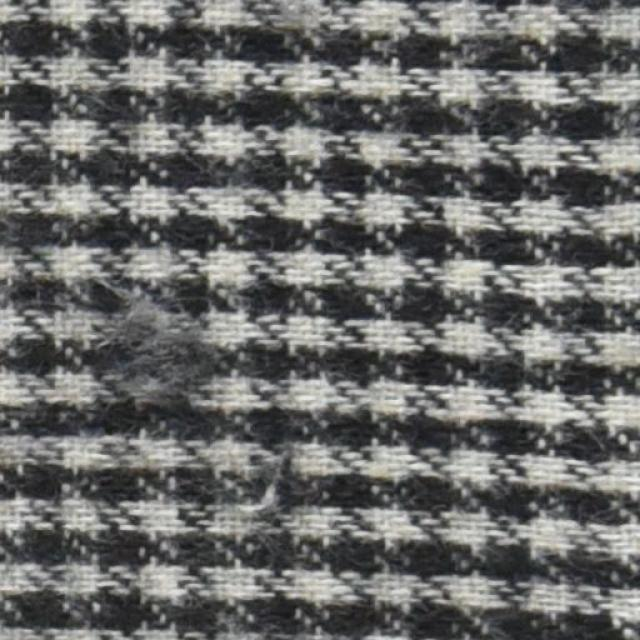Snag: (97, 277, 231, 441)
